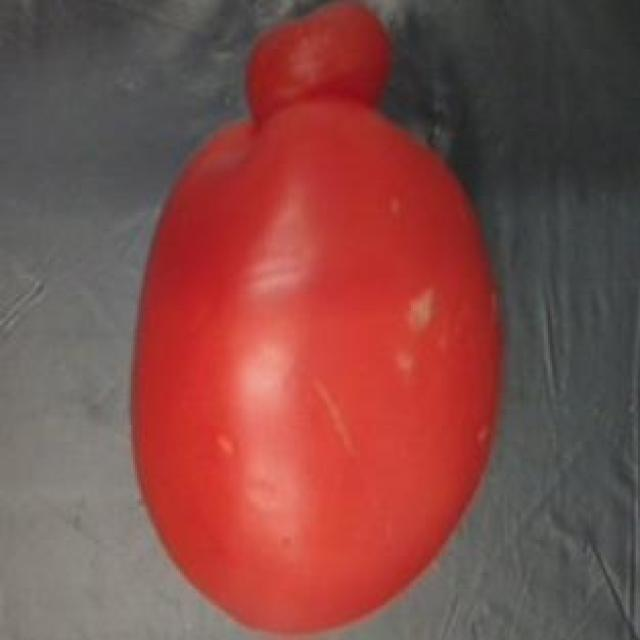overripe tomato: (123, 0, 515, 640)
